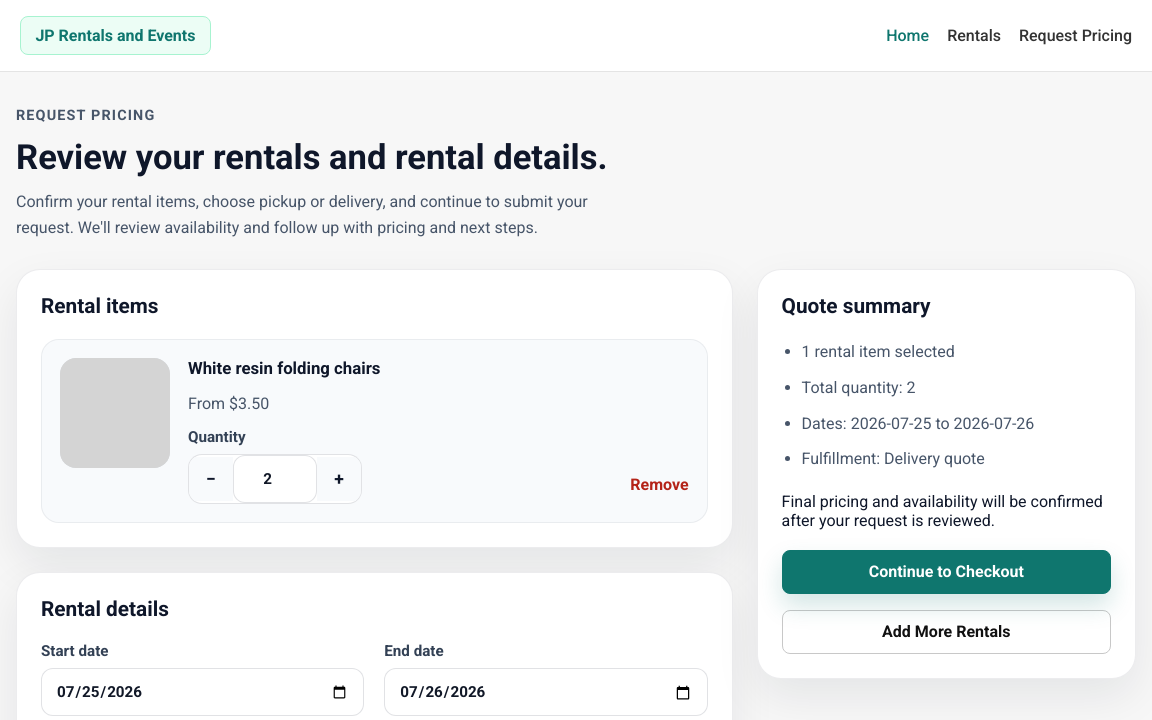
it: QuotePage › requires a delivery address when delivery is selected
The image size is (1152, 720).
Click the button with aria-label "continue to checkout from quote summary" at [946, 572], box [782,550,1111,594]
(page scrolled)
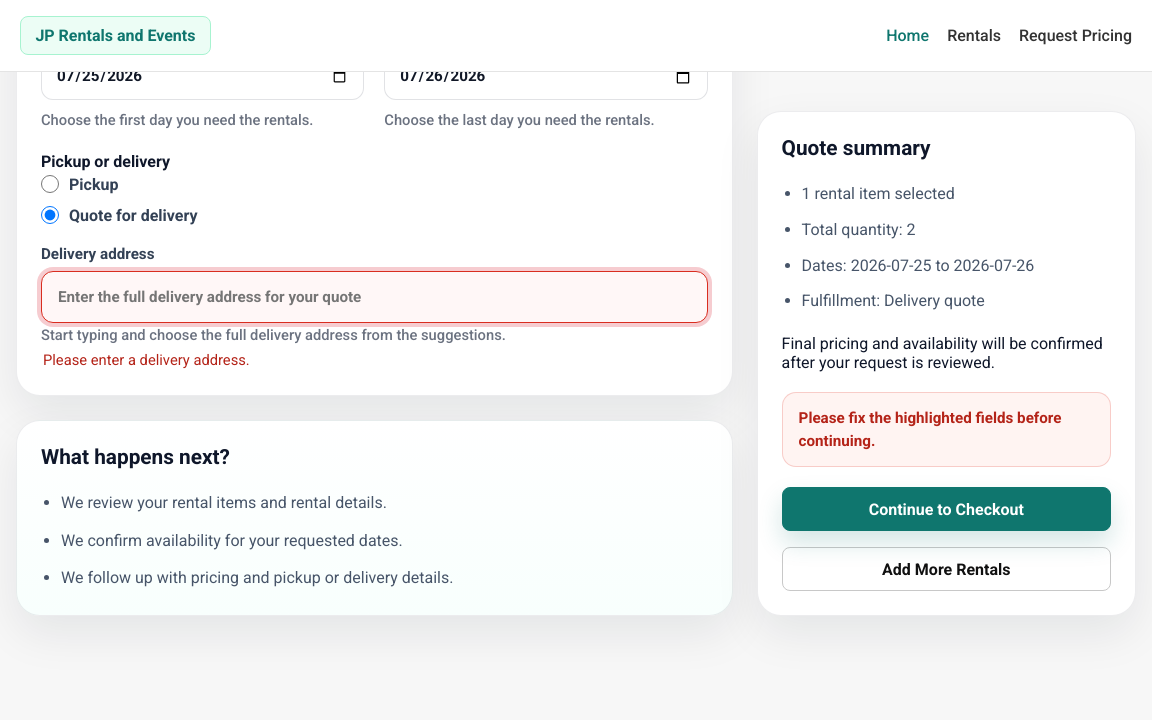
Check: the text "Please enter a delivery address." is shown, box [43,351,250,369]
